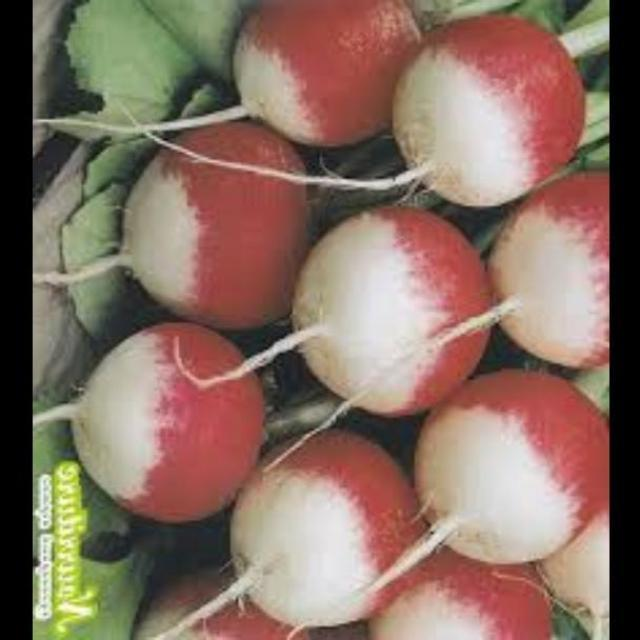rediska: (284, 185, 493, 418), (108, 114, 315, 338), (59, 318, 278, 526), (415, 361, 608, 580), (390, 10, 596, 209), (244, 434, 431, 631), (210, 1, 443, 151), (491, 163, 610, 391), (350, 545, 574, 640), (122, 570, 319, 640)
